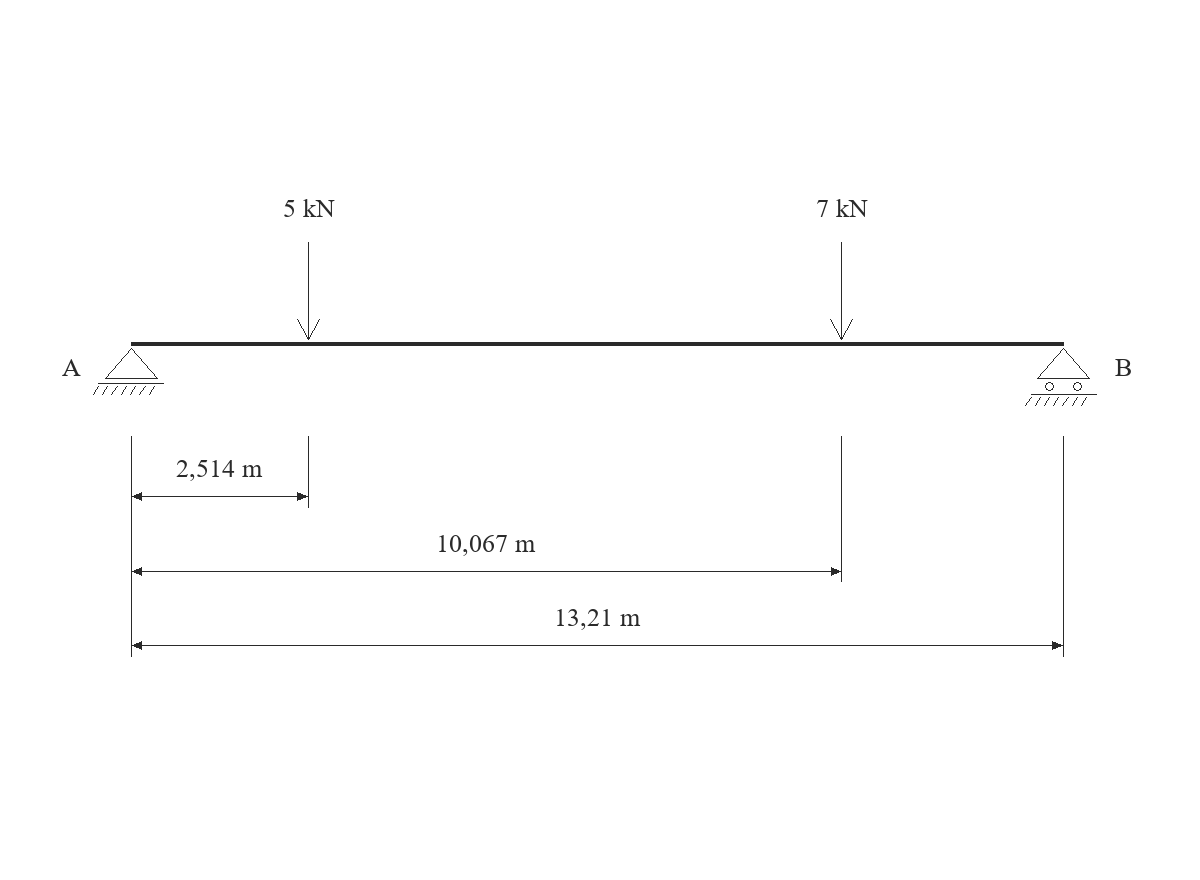pin_support: (93, 348, 164, 395)
point_load: (297, 242, 320, 340), (830, 242, 853, 340)
roller_support: (1025, 348, 1097, 406)
